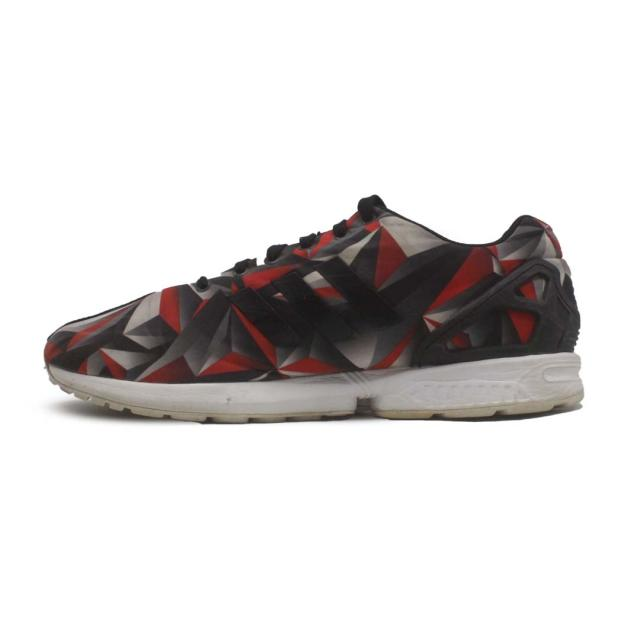heel: (499, 213, 581, 357)
midsole: (51, 353, 583, 427)
uppersole: (45, 193, 503, 384)
